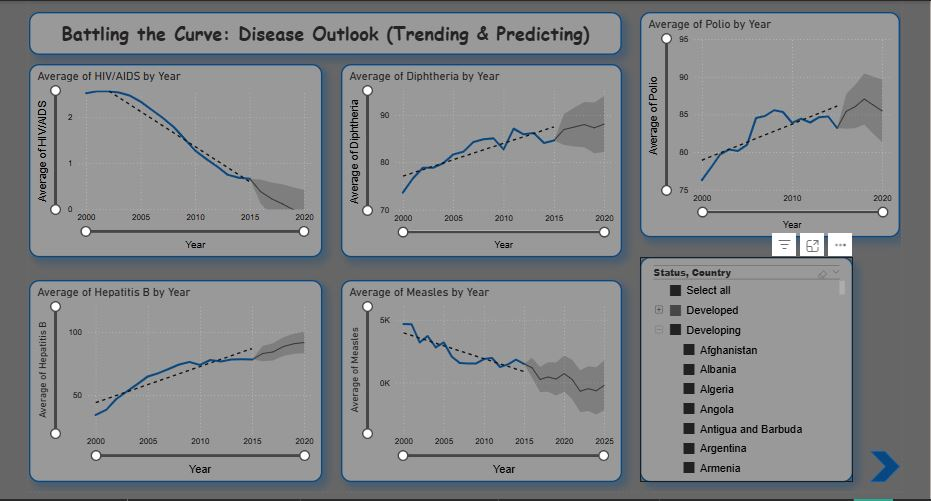

The dashboard page shown, as its layout file describes it:
{"tool":"powerbi","page":{"name":"Disease trends and Forecasts","canvas":[1280,720],"ordinal":1},"visuals":[{"type":"lineChart","fields":{"Category":["Life Expectancy Data.Year.Variation.Date Hierarchy.Year"],"Y":["Avg(Life Expectancy Data. HIV/AIDS)"]},"box":[0,92.6,430.5,283.6],"z":0},{"type":"lineChart","fields":{"Category":["Life Expectancy Data.Year.Variation.Date Hierarchy.Year"],"Y":["Avg(Life Expectancy Data.Diphtheria )"]},"box":[458.4,92.6,412.9,283.6],"z":1000},{"type":"lineChart","fields":{"Category":["Life Expectancy Data.Year.Variation.Date Hierarchy.Year"],"Y":["Avg(Life Expectancy Data.Hepatitis B)"]},"box":[0,410,430.5,296.8],"z":2000},{"type":"lineChart","fields":{"Category":["Life Expectancy Data.Year.Variation.Date Hierarchy.Year"],"Y":["Avg(Life Expectancy Data.Measles )"]},"box":[458.4,410,412.9,296.8],"z":3000},{"type":"lineChart","fields":{"Category":["Life Expectancy Data.Year.Variation.Date Hierarchy.Year"],"Y":["Avg(Life Expectancy Data.Polio)"]},"box":[897.8,16.2,382,330.6],"z":4000},{"type":"slicer","fields":{"Values":["Life Expectancy Data.Status Hierarchy.Status","Life Expectancy Data.Status Hierarchy.Country"]},"box":[897.8,376.2,313,330.6],"z":5000},{"type":"textbox","box":[0,16.2,871.3,63.2],"z":6000},{"type":"shape","box":[1235.8,661.2,44.1,45.6],"z":7000}]}

Visuals, with their boxes on the page's 1280x720 design canvas (x1, y1, x2, y2). These are canvas units, not pixel positions in the 931x501 screenshot, which may show the page scaled, cropped or inside an application window:
lineChart - Life Expectancy Data.Year.Variation.Date Hierarchy.Year x Avg(Life Expectancy Data. HIV/AIDS): bbox(0, 93, 430, 376)
lineChart - Life Expectancy Data.Year.Variation.Date Hierarchy.Year x Avg(Life Expectancy Data.Diphtheria ): bbox(458, 93, 871, 376)
lineChart - Life Expectancy Data.Year.Variation.Date Hierarchy.Year x Avg(Life Expectancy Data.Hepatitis B): bbox(0, 410, 430, 707)
lineChart - Life Expectancy Data.Year.Variation.Date Hierarchy.Year x Avg(Life Expectancy Data.Measles ): bbox(458, 410, 871, 707)
lineChart - Life Expectancy Data.Year.Variation.Date Hierarchy.Year x Avg(Life Expectancy Data.Polio): bbox(898, 16, 1280, 347)
slicer - Life Expectancy Data.Status Hierarchy.Status x Life Expectancy Data.Status Hierarchy.Country: bbox(898, 376, 1211, 707)
textbox: bbox(0, 16, 871, 79)
shape: bbox(1236, 661, 1280, 707)
